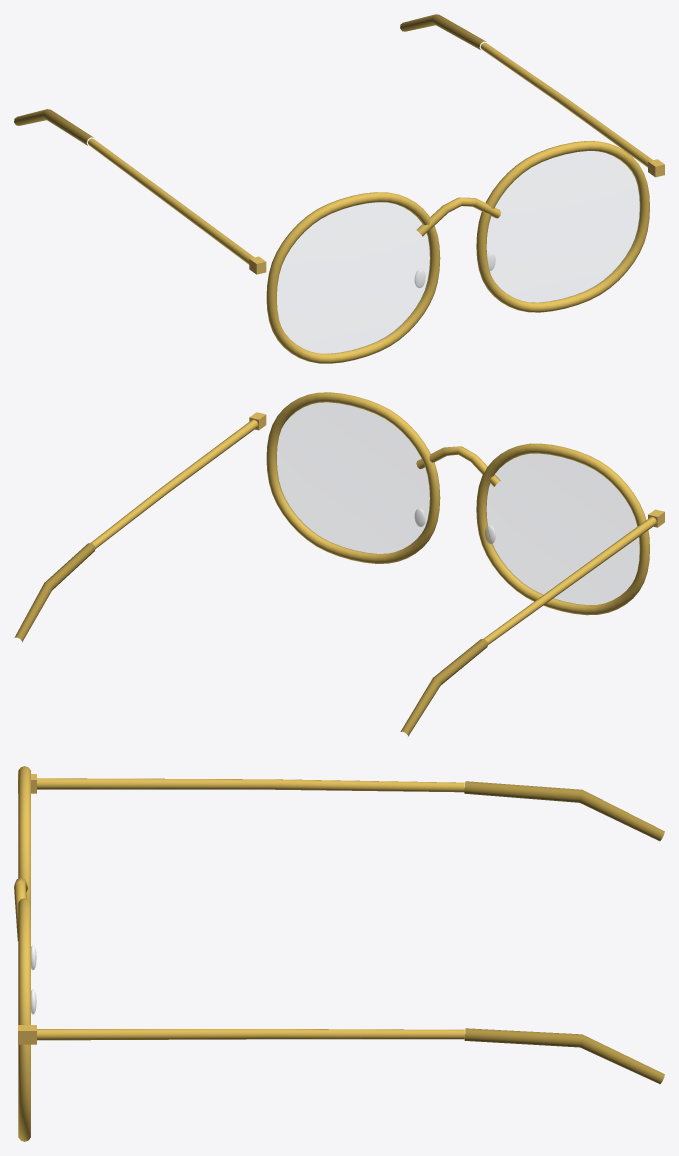
The picture shows the model from 3 angles, top to bottom: view 1: azimuth 30°, elevation 25°; view 2: azimuth 150°, elevation 25°; view 3: azimuth 270°, elevation 25°; orthographic projection. The views are drawn at different scales.
Visible parts, largest first — view 1: Lens_L, Lens_R, Rim_L, Rim_R, Temple_R, Temple_L, TempleTip_R, TempleTip_L, Bridge; view 2: Lens_R, Lens_L, Rim_R, Rim_L, Temple_L, Temple_R, TempleTip_L, TempleTip_R, Bridge; view 3: Temple_L, Temple_R, Rim_R, TempleTip_L, TempleTip_R, Rim_L.
Boxes of the visible parts, bbox=[...] form: Lens_L: bbox=[277, 202, 430, 353]; Lens_R: bbox=[487, 151, 639, 302]; Rim_L: bbox=[266, 192, 440, 363]; Rim_R: bbox=[476, 141, 649, 312]; Temple_R: bbox=[480, 42, 652, 167]; Temple_L: bbox=[88, 138, 254, 264]; TempleTip_R: bbox=[400, 14, 486, 49]; TempleTip_L: bbox=[14, 109, 93, 145]; Bridge: bbox=[416, 197, 501, 236]; Lens_R: bbox=[276, 402, 429, 553]; Lens_L: bbox=[486, 454, 639, 604]; Rim_R: bbox=[266, 392, 440, 563]; Rim_L: bbox=[476, 443, 649, 615]; Temple_L: bbox=[484, 517, 656, 644]; Temple_R: bbox=[91, 420, 257, 548]; TempleTip_L: bbox=[400, 638, 488, 736]; TempleTip_R: bbox=[14, 543, 95, 642]; Bridge: bbox=[416, 446, 500, 486]; Temple_L: bbox=[37, 778, 464, 792]; Temple_R: bbox=[37, 1029, 464, 1040]; Rim_R: bbox=[18, 898, 30, 1141]; TempleTip_L: bbox=[464, 781, 664, 841]; TempleTip_R: bbox=[464, 1028, 664, 1083]; Rim_L: bbox=[18, 766, 30, 901].
Bounding box in the file's own units: 2.6 × 0.9974 × 2.79.
